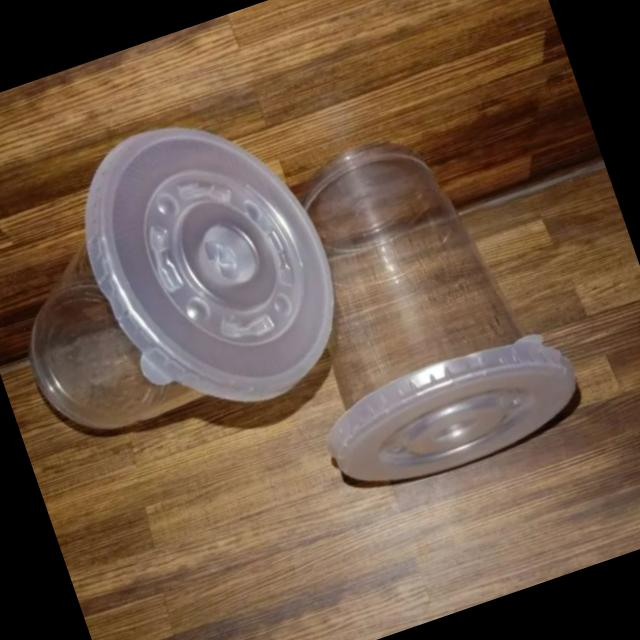GelasPlastik: (236, 104, 593, 509), (0, 86, 366, 471)
